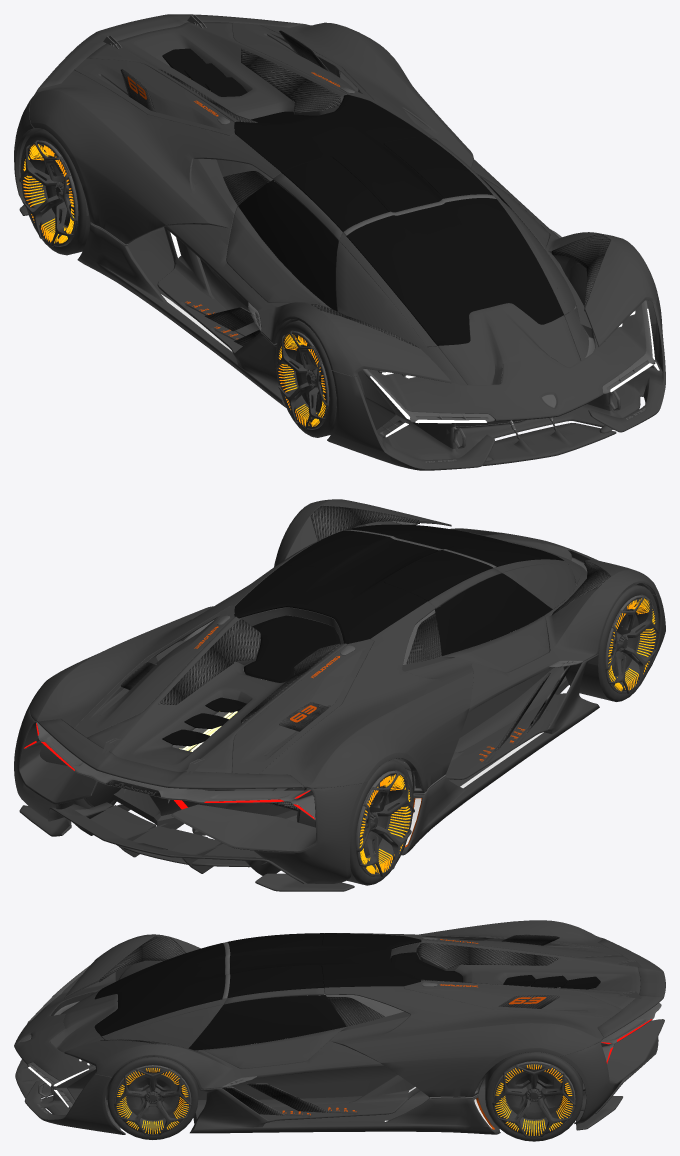
3 renders of one model, top to bottom at view 1: azimuth 30°, elevation 25°; view 2: azimuth 150°, elevation 25°; view 3: azimuth 270°, elevation 25°, orthographic. The views are drawn at different scales.
Visible parts, largest first — view 1: chassis_carpaint_LOD2_43, glass_glass_LOD2_88, glass_detachable_glass_LOD2_90, chassis_carpaint02_LOD2_40, chassis_carpaint_custom01_LOD2_42, detach_trunk_50_carpaint_custom02_LOD2_78, detach_skirt_R_15_carpaint_LOD2_73, chassis_details_LOD2_45, detach_door_R_60_carpaint_LOD2_60, detach_skirt_R_15_carpaint03_LOD2_72, detach_lip_5_details_LOD2_29, detach_wing_10_carpaint_custom03_LOD2_25 (+14 smaller); view 2: chassis_carpaint_LOD2_43, glass_glass_LOD2_88, glass_detachable_glass_LOD2_90, detach_trunk_50_carpaint_custom02_LOD2_78, emissive_mesh_emissive_mesh_static_LOD6_83, emissive_mesh_emissive_mesh_exhaust_LOD6_82, chassis_details_LOD2_45, detach_wing_10_carpaint_custom03_LOD2_25, detach_skirt_R_15_carpaint_LOD2_73, chassis_carpaint02_LOD2_40, detach_diffuser_5_details_LOD2_54, detach_trunk_50_tiled_carbon_LOD2_80 (+13 smaller); view 3: chassis_carpaint_LOD2_43, glass_glass_LOD2_88, glass_detachable_glass_LOD2_90, chassis_carpaint02_LOD2_40, detach_skirt_L_15_carpaint_LOD2_66, detach_trunk_50_carpaint_custom02_LOD2_78, detach_door_L_60_carpaint_LOD2_56, chassis_details_LOD2_45, chassis_carpaint_custom01_LOD2_42, detach_skirt_L_15_carpaint03_LOD2_65, detach_trunk_50_tiled_carbon_LOD2_80, wheelFR_tire_tires_LOD2_2_110 (+21 smaller).
Boxes of the visible parts, <box> form: chassis_carpaint_LOD2_43: <box>14,22,665,470</box>; glass_glass_LOD2_88: <box>234,94,659,437</box>; glass_detachable_glass_LOD2_90: <box>162,48,536,311</box>; chassis_carpaint02_LOD2_40: <box>127,71,664,468</box>; chassis_carpaint_custom01_LOD2_42: <box>393,329,643,421</box>; detach_trunk_50_carpaint_custom02_LOD2_78: <box>87,22,347,122</box>; detach_skirt_R_15_carpaint_LOD2_73: <box>77,224,286,407</box>; chassis_details_LOD2_45: <box>90,72,659,462</box>; detach_door_R_60_carpaint_LOD2_60: <box>226,173,342,304</box>; detach_skirt_R_15_carpaint03_LOD2_72: <box>157,227,252,354</box>; detach_lip_5_details_LOD2_29: <box>483,423,616,465</box>; detach_wing_10_carpaint_custom03_LOD2_25: <box>38,14,303,88</box>; chassis_carpaint_LOD2_43: <box>14,499,665,883</box>; glass_glass_LOD2_88: <box>24,524,580,819</box>; glass_detachable_glass_LOD2_90: <box>162,530,552,746</box>; detach_trunk_50_carpaint_custom02_LOD2_78: <box>87,616,347,773</box>; emissive_mesh_emissive_mesh_static_LOD6_83: <box>20,722,315,858</box>; emissive_mesh_emissive_mesh_exhaust_LOD6_82: <box>25,742,315,873</box>; chassis_details_LOD2_45: <box>23,520,651,819</box>; detach_wing_10_carpaint_custom03_LOD2_25: <box>37,719,304,788</box>; detach_skirt_R_15_carpaint_LOD2_73: <box>401,654,599,855</box>; chassis_carpaint02_LOD2_40: <box>19,529,648,850</box>; detach_diffuser_5_details_LOD2_54: <box>19,802,354,891</box>; detach_trunk_50_tiled_carbon_LOD2_80: <box>158,619,340,723</box>; chassis_carpaint_LOD2_43: <box>24,920,664,1134</box>; glass_glass_LOD2_88: <box>28,933,652,1107</box>; glass_detachable_glass_LOD2_90: <box>188,933,600,1050</box>; chassis_carpaint02_LOD2_40: <box>25,940,656,1131</box>; detach_skirt_L_15_carpaint_LOD2_66: <box>190,1088,500,1134</box>; detach_trunk_50_carpaint_custom02_LOD2_78: <box>416,939,640,1009</box>; detach_door_L_60_carpaint_LOD2_56: <box>202,988,346,1068</box>; chassis_details_LOD2_45: <box>27,939,661,1113</box>; chassis_carpaint_custom01_LOD2_42: <box>14,984,109,1080</box>; detach_skirt_L_15_carpaint03_LOD2_65: <box>260,1074,420,1122</box>; detach_trunk_50_tiled_carbon_LOD2_80: <box>417,942,559,988</box>; wheelFR_tire_tires_LOD2_2_110: <box>485,1052,582,1141</box>.
Size of the model in its own units: 0.9213 by 0.4171 by 1.96.
Materials: 13 (1 with a texture image).
